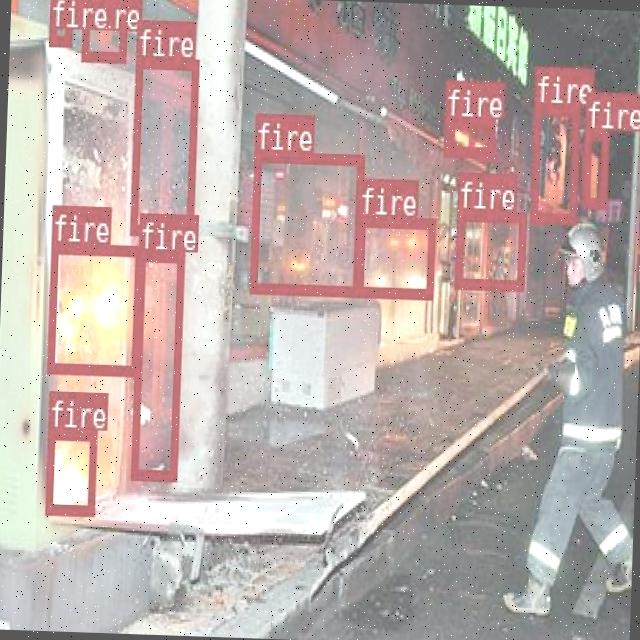fire: (248, 148, 363, 295), (45, 240, 140, 374), (128, 55, 198, 234), (130, 248, 184, 480), (355, 215, 434, 298), (529, 104, 578, 222), (454, 208, 524, 290), (43, 428, 96, 512), (81, 0, 125, 59), (442, 116, 494, 156), (580, 128, 606, 207), (47, 0, 71, 45)
